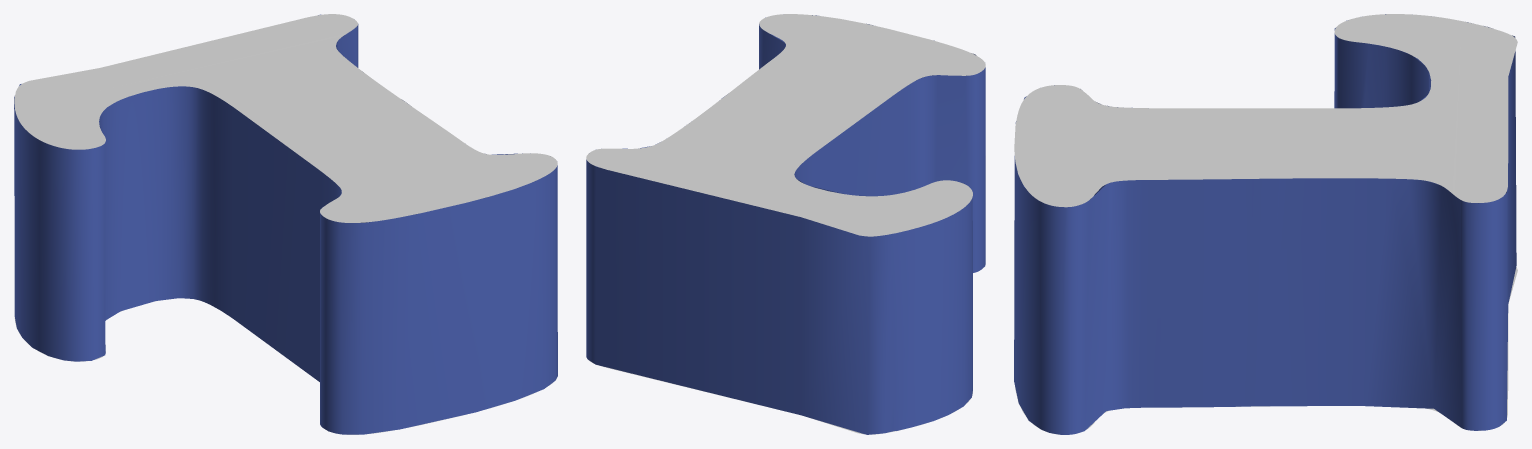
3 views of the same model, side by side, from view 1: azimuth 30°, elevation 25°; view 2: azimuth 150°, elevation 25°; view 3: azimuth 270°, elevation 25° (orthographic). The views are drawn at different scales.
Visible parts, largest first — view 1: L; view 2: L; view 3: L.
Boxes of the visible parts, <box> form: L: <box>14,14,557,434</box>; L: <box>586,14,985,434</box>; L: <box>1014,14,1517,434</box>.
Bounding box in the file's own units: 1.34 × 0.7361 × 1.48.
